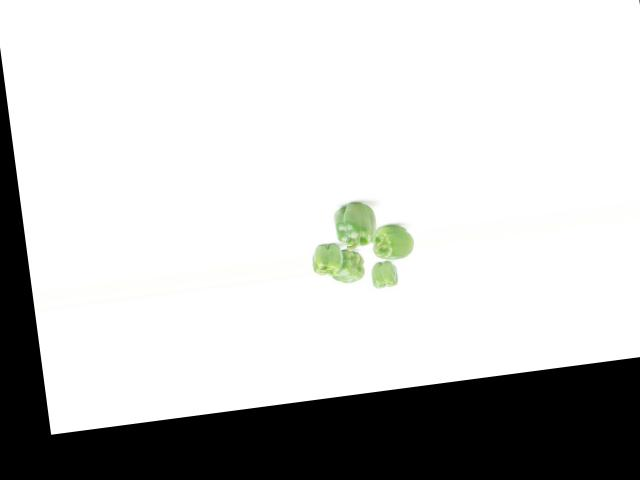bell_pepper: (309, 237, 347, 276)
